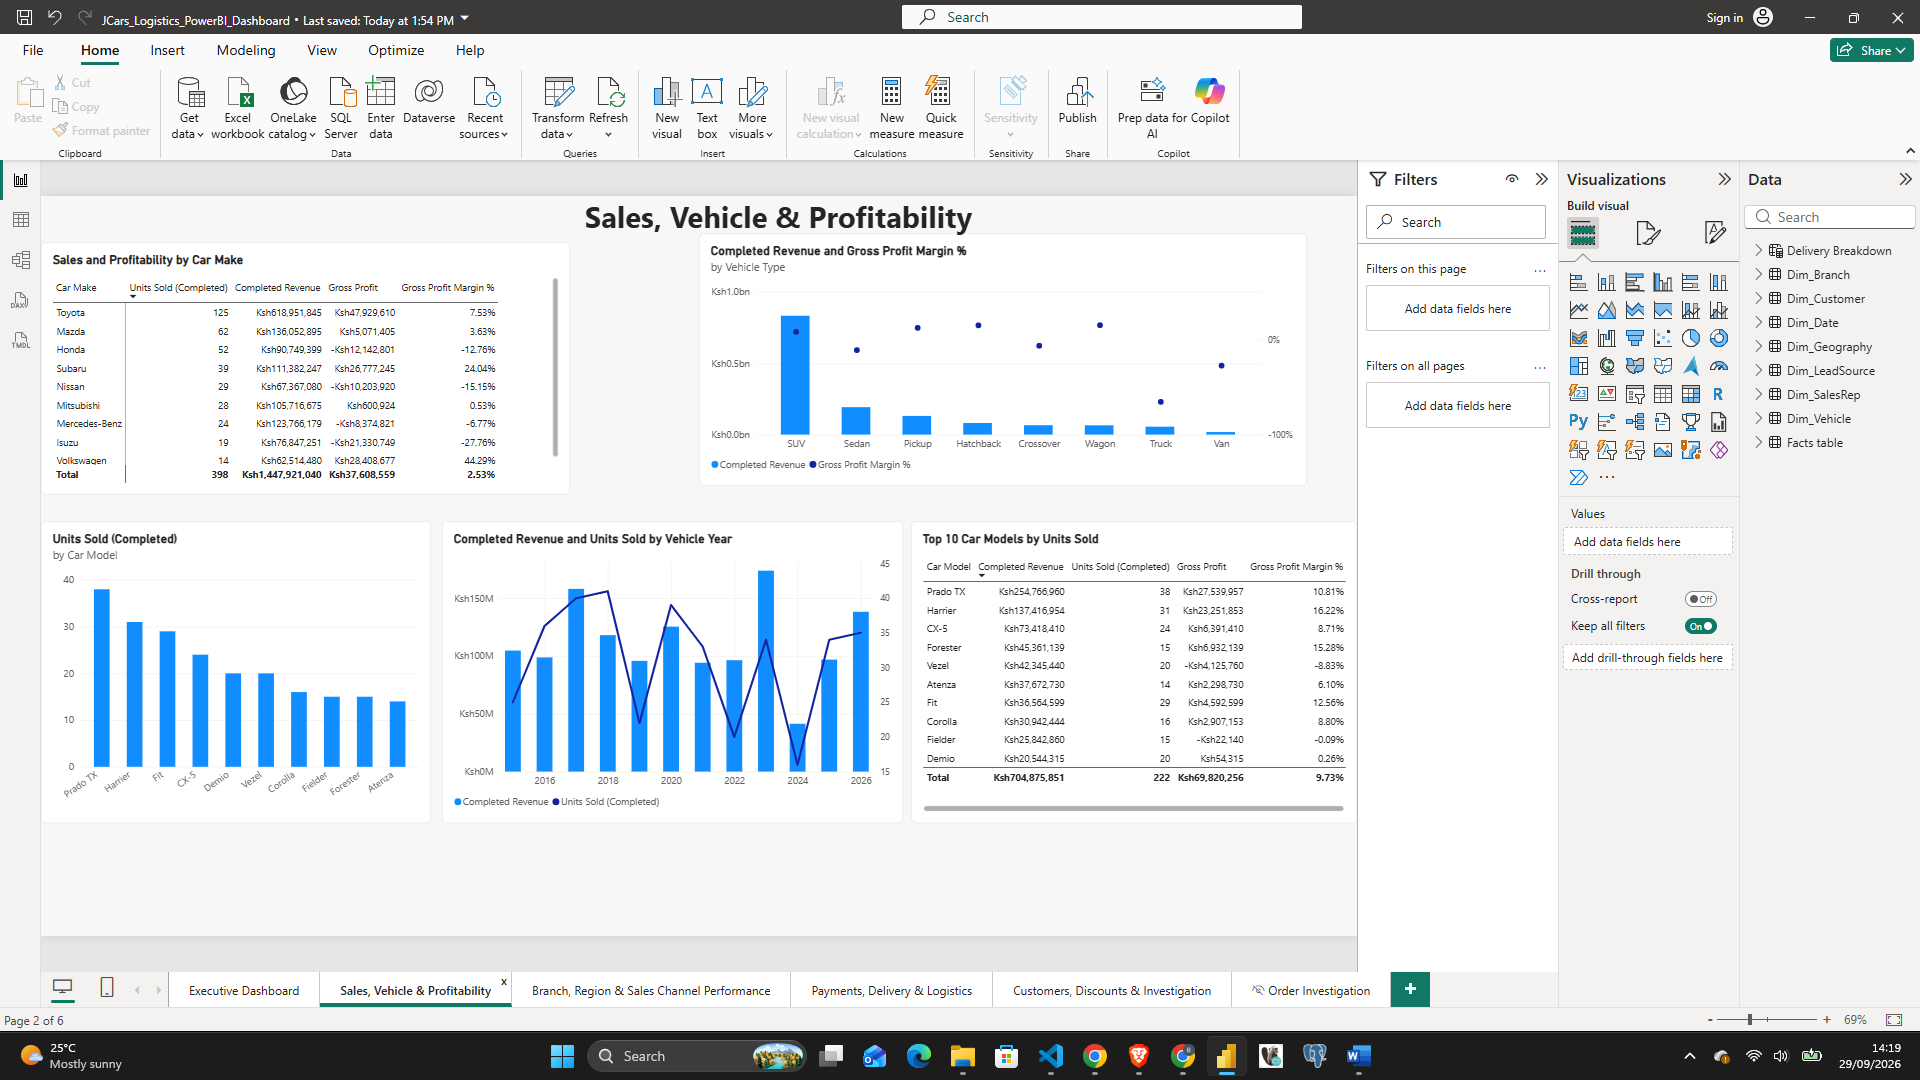

What the dashboard file says about the page in this screenshot:
{"tool":"powerbi","page":{"name":"Sales, Vehicle & Profitability","canvas":[1920,1080],"ordinal":1},"visuals":[{"type":"pivotTable","title":"Sales and Profitability by Car Make","fields":{"Rows":["Dim_Vehicle.Car Make"],"Values":["Facts table.Units Sold (Completed)","Facts table.Completed Revenue","Facts table.Gross Profit","Facts table.Gross Profit Margin %"]},"box":[0,67.1,771.8,369.1],"z":0},{"type":"columnChart","fields":{"Category":["Dim_Vehicle.Car Model"],"Y":["Facts table.Units Sold (Completed)"]},"box":[0,474.2,569,440.6],"z":1000},{"type":"lineClusteredColumnComboChart","fields":{"Category":["Dim_Vehicle.Vehicle Type"],"Y":["Facts table.Completed Revenue"],"Y2":["Facts table.Gross Profit Margin %"]},"box":[960,54,887.1,369.1],"z":2000},{"type":"lineClusteredColumnComboChart","title":"Completed Revenue and Units Sold by Vehicle Year","fields":{"Category":["Dim_Vehicle.Vehicle Year"],"Y":["Facts table.Completed Revenue"],"Y2":["Facts table.Units Sold (Completed)"]},"box":[585,474.2,672.6,440.6],"z":3000},{"type":"textbox","box":[410,0,1332,106.5],"z":3001},{"type":"tableEx","title":"Top 10 Car Models by Units Sold","fields":{"Values":["Dim_Vehicle.Car Model","Facts table.Completed Revenue","Facts table.Units Sold (Completed)","Facts table.Gross Profit","Facts table.Gross Profit Margin %"]},"box":[1269.3,474.2,650.7,440.6],"z":3002}]}

Visuals, with their boxes on the page's 1920x1080 design canvas (x1, y1, x2, y2). These are canvas units, not pixel positions in the 1920x1080 screenshot, which may show the page scaled, cropped or inside an application window:
"Sales and Profitability by Car Make" pivotTable: l=0, t=67, r=772, b=436
columnChart - Dim_Vehicle.Car Model x Facts table.Units Sold (Completed): l=0, t=474, r=569, b=915
lineClusteredColumnComboChart - Dim_Vehicle.Vehicle Type x Facts table.Completed Revenue: l=960, t=54, r=1847, b=423
"Completed Revenue and Units Sold by Vehicle Year" lineClusteredColumnComboChart: l=585, t=474, r=1258, b=915
textbox: l=410, t=0, r=1742, b=106
"Top 10 Car Models by Units Sold" tableEx: l=1269, t=474, r=1920, b=915
